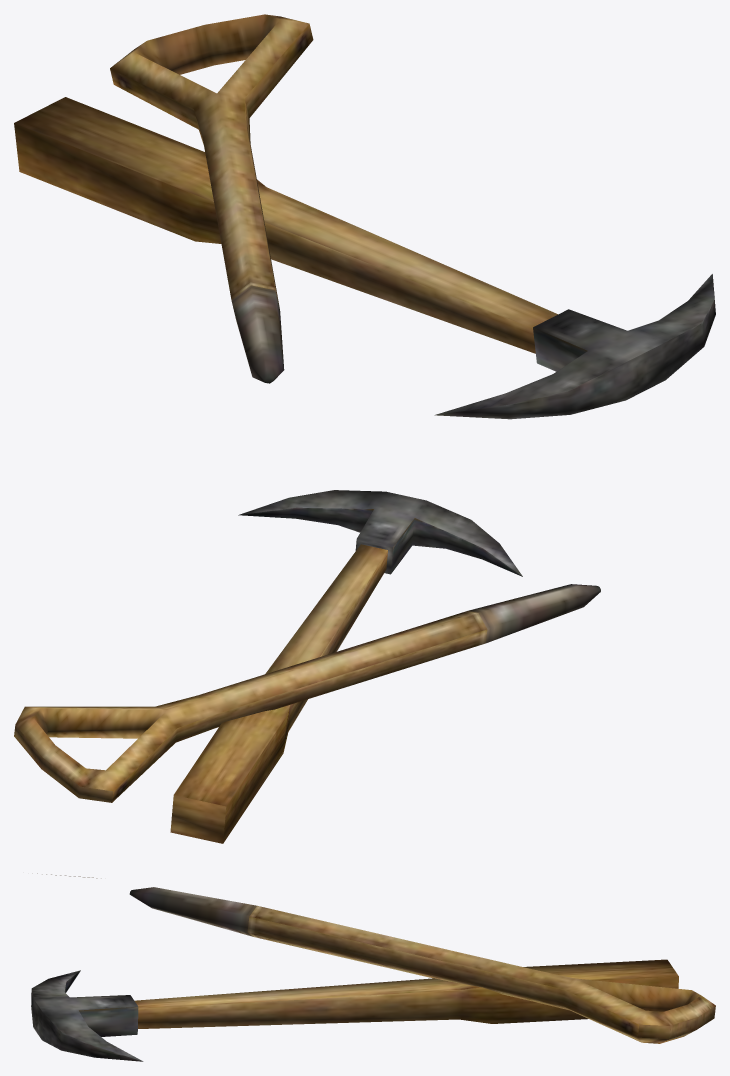
The model's file is cj_farmingtool.glb.
3 renders of one model, top to bottom at view 1: azimuth 30°, elevation 25°; view 2: azimuth 150°, elevation 25°; view 3: azimuth 270°, elevation 25°, orthographic. The views are drawn at different scales.
Visible parts, largest first — view 1: CJ_FarmingTool1; view 2: CJ_FarmingTool1; view 3: CJ_FarmingTool1.
Part boxes in pixels (left/top/right/bottom): CJ_FarmingTool1: left=14, top=14, right=715, bottom=419; CJ_FarmingTool1: left=14, top=490, right=600, bottom=843; CJ_FarmingTool1: left=31, top=873, right=715, bottom=1061.
Size of the model in its own units: 0.5466 by 0.0979 by 0.8271.
Materials: 1 (1 with a texture image).
